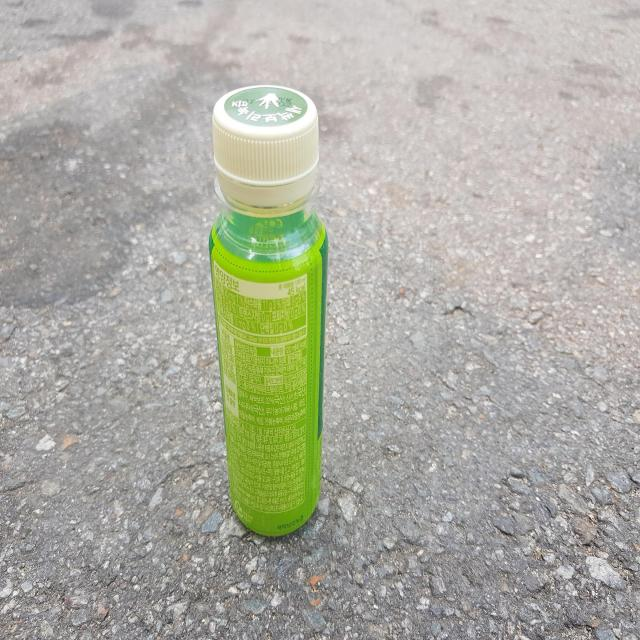plastic: (209, 84, 328, 536)
